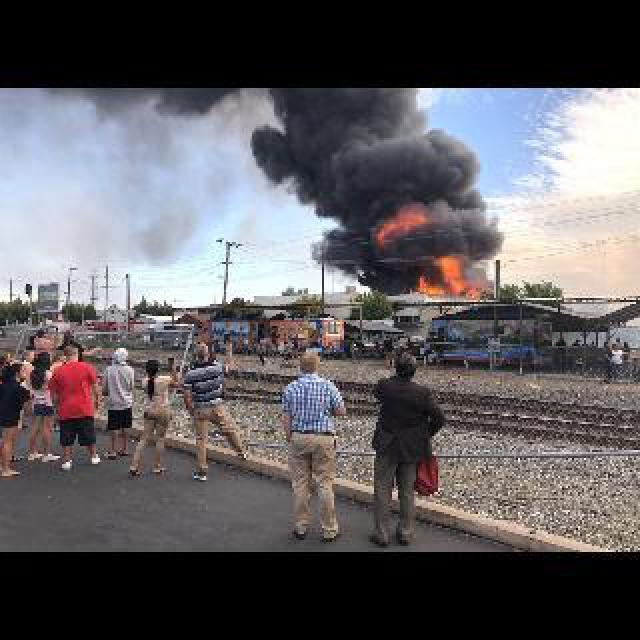Smoke: (164, 87, 501, 290)
